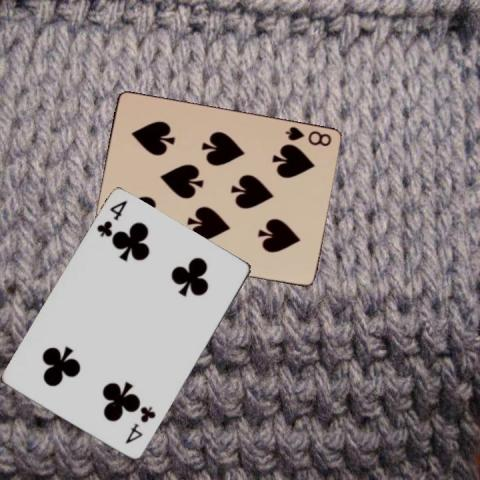4c: (94, 197, 129, 239), (123, 404, 157, 446)
8s: (282, 124, 333, 148)
